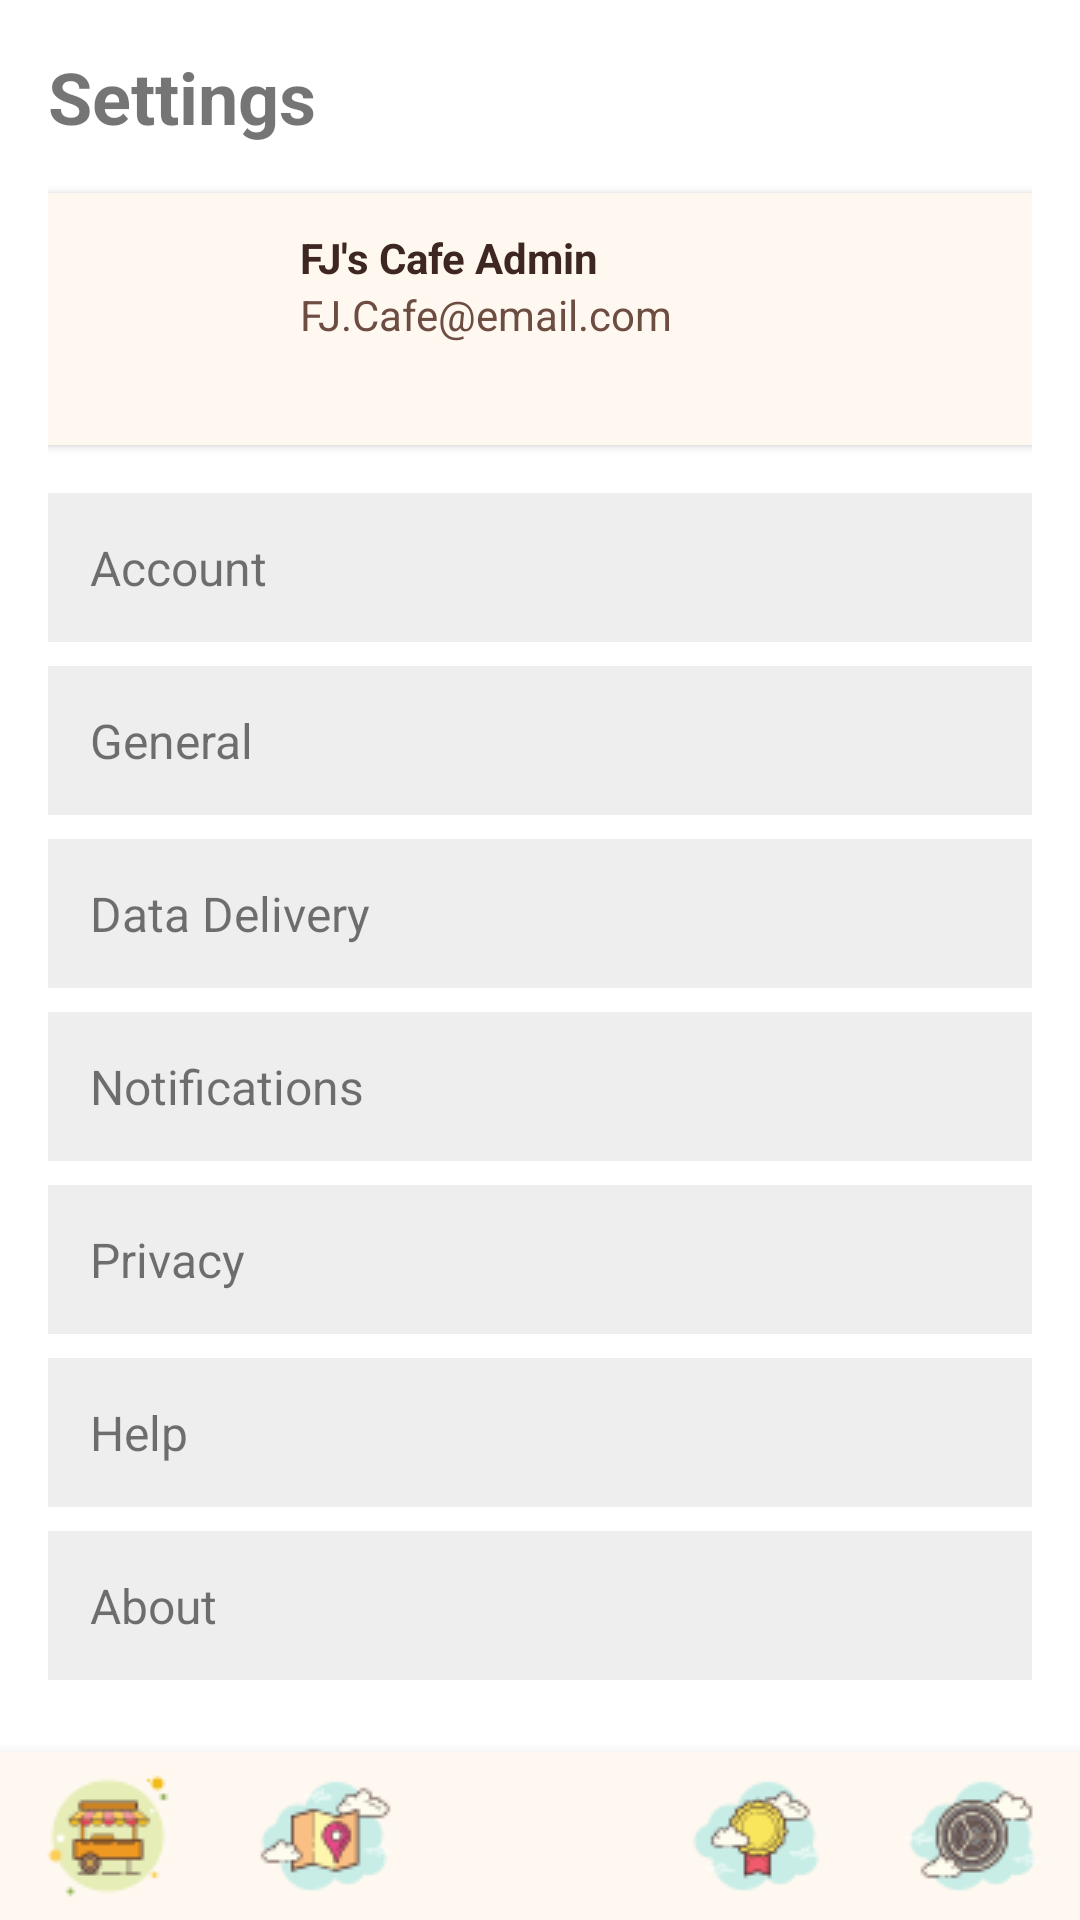

Icon click points for this 1080px×1920px phone screenshot, format (x=x, y=y):
Cart: (x=108, y=1836)
Locator: (x=325, y=1836)
Rewards: (x=756, y=1836)
